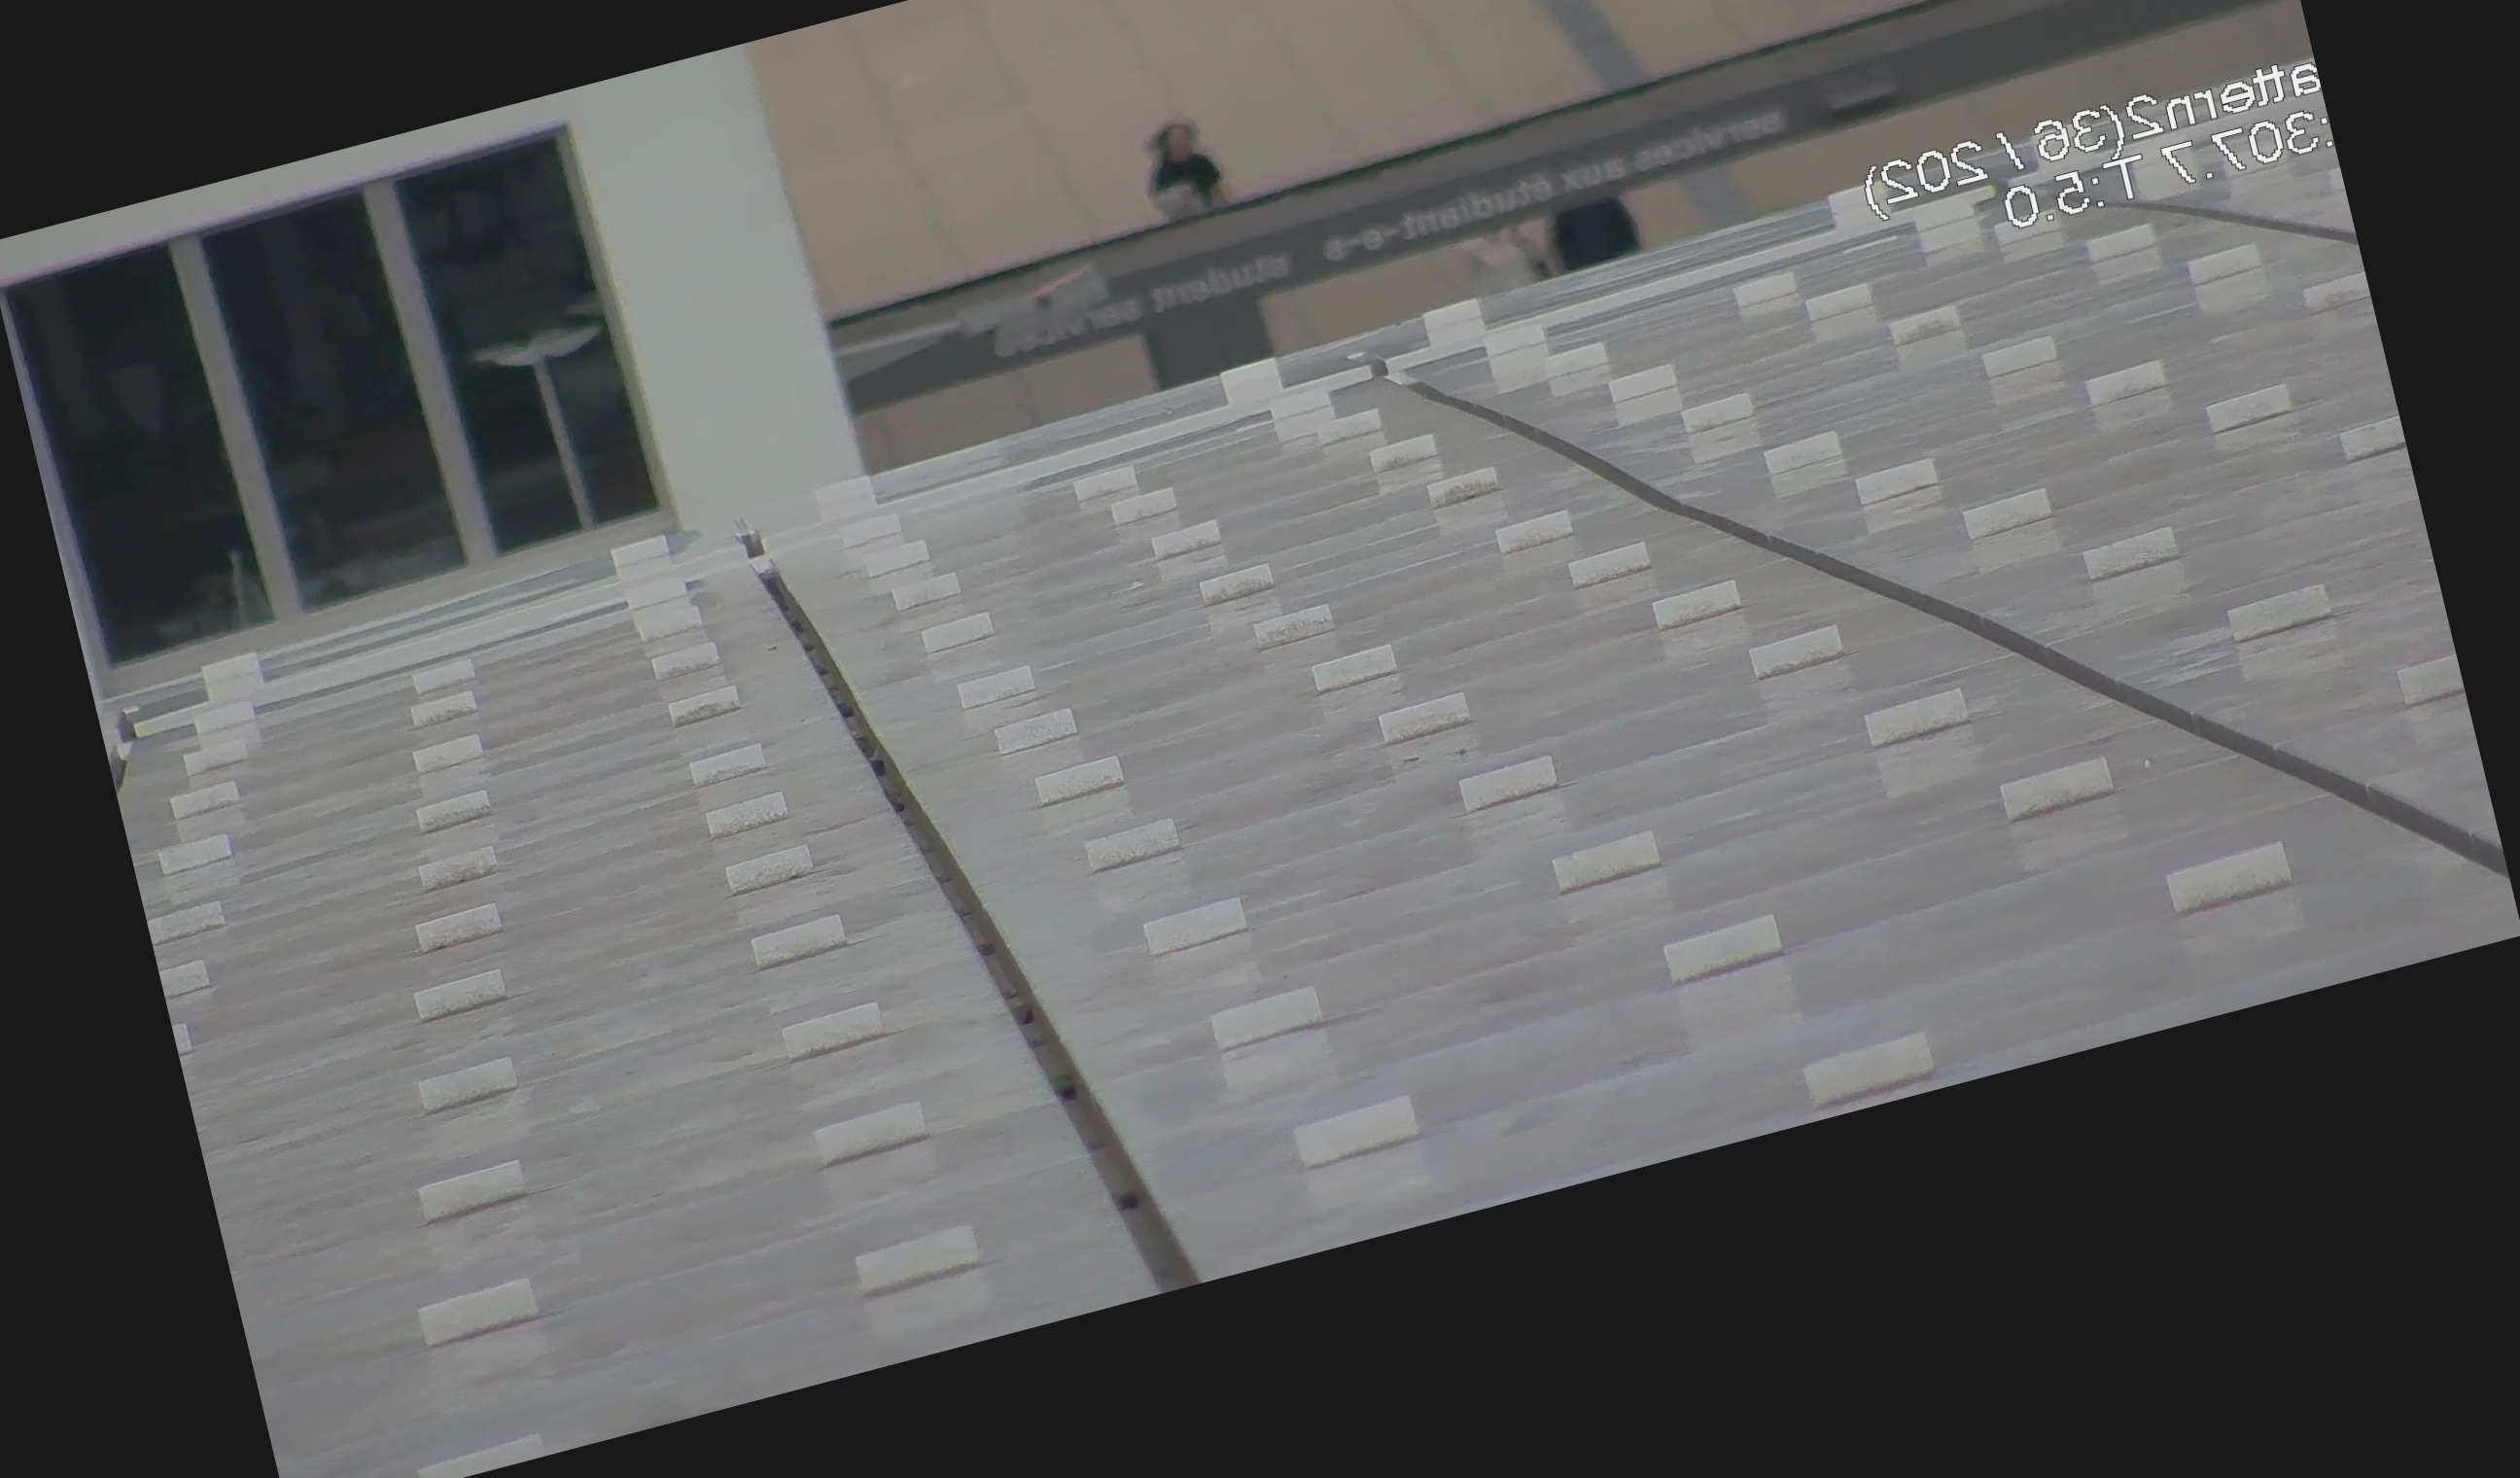Other: (1118, 93, 1256, 234)
